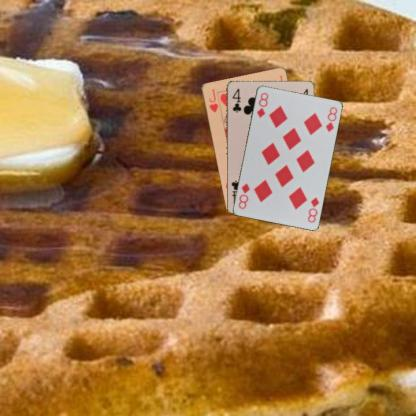4c: (229, 85, 242, 114)
8d: (305, 194, 320, 224), (254, 90, 269, 119)
Jh: (206, 86, 219, 113)
